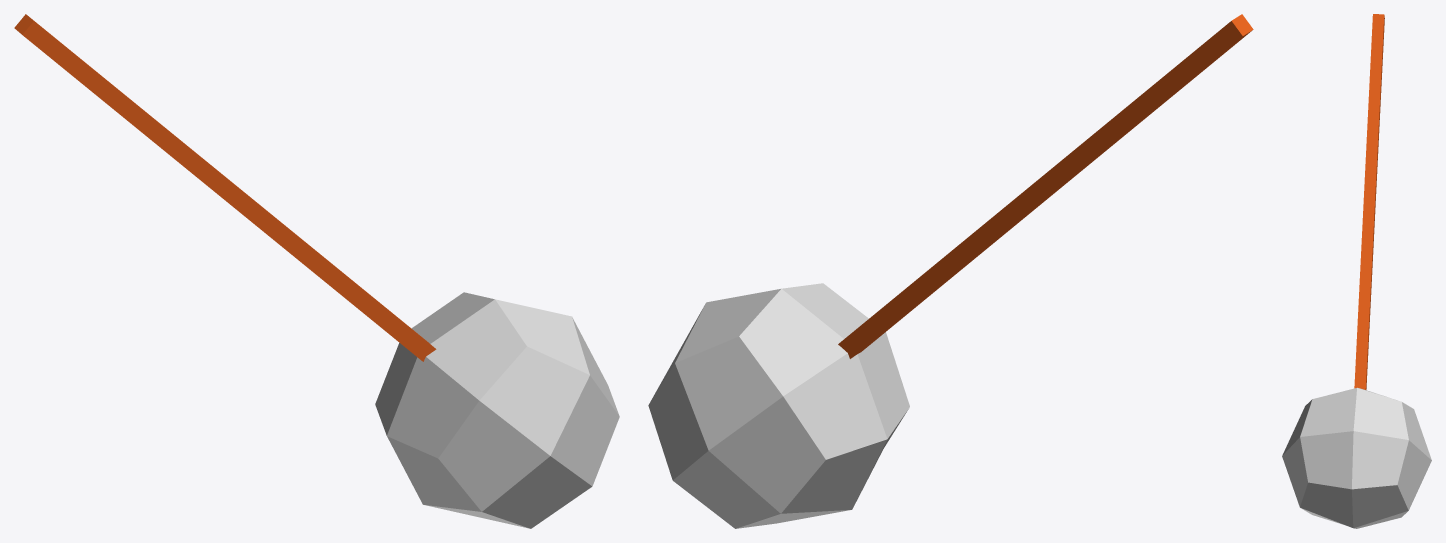
File: Pendulocirculoabajo.fbx
The picture shows the model from 3 angles, left to right: view 1: azimuth 30°, elevation 25°; view 2: azimuth 150°, elevation 25°; view 3: azimuth 270°, elevation 25°; orthographic projection. The views are drawn at different scales.
Parts seen in each view (by area): view 1: Cube; view 2: Cube; view 3: Cube.
Part boxes in pixels (x1=…): Cube: x1=14, y1=14, x2=619, y2=528; Cube: x1=648, y1=14, x2=1253, y2=528; Cube: x1=1282, y1=14, x2=1431, y2=528.
Bounding box in the file's own units: 7184 × 7269 × 2623.
